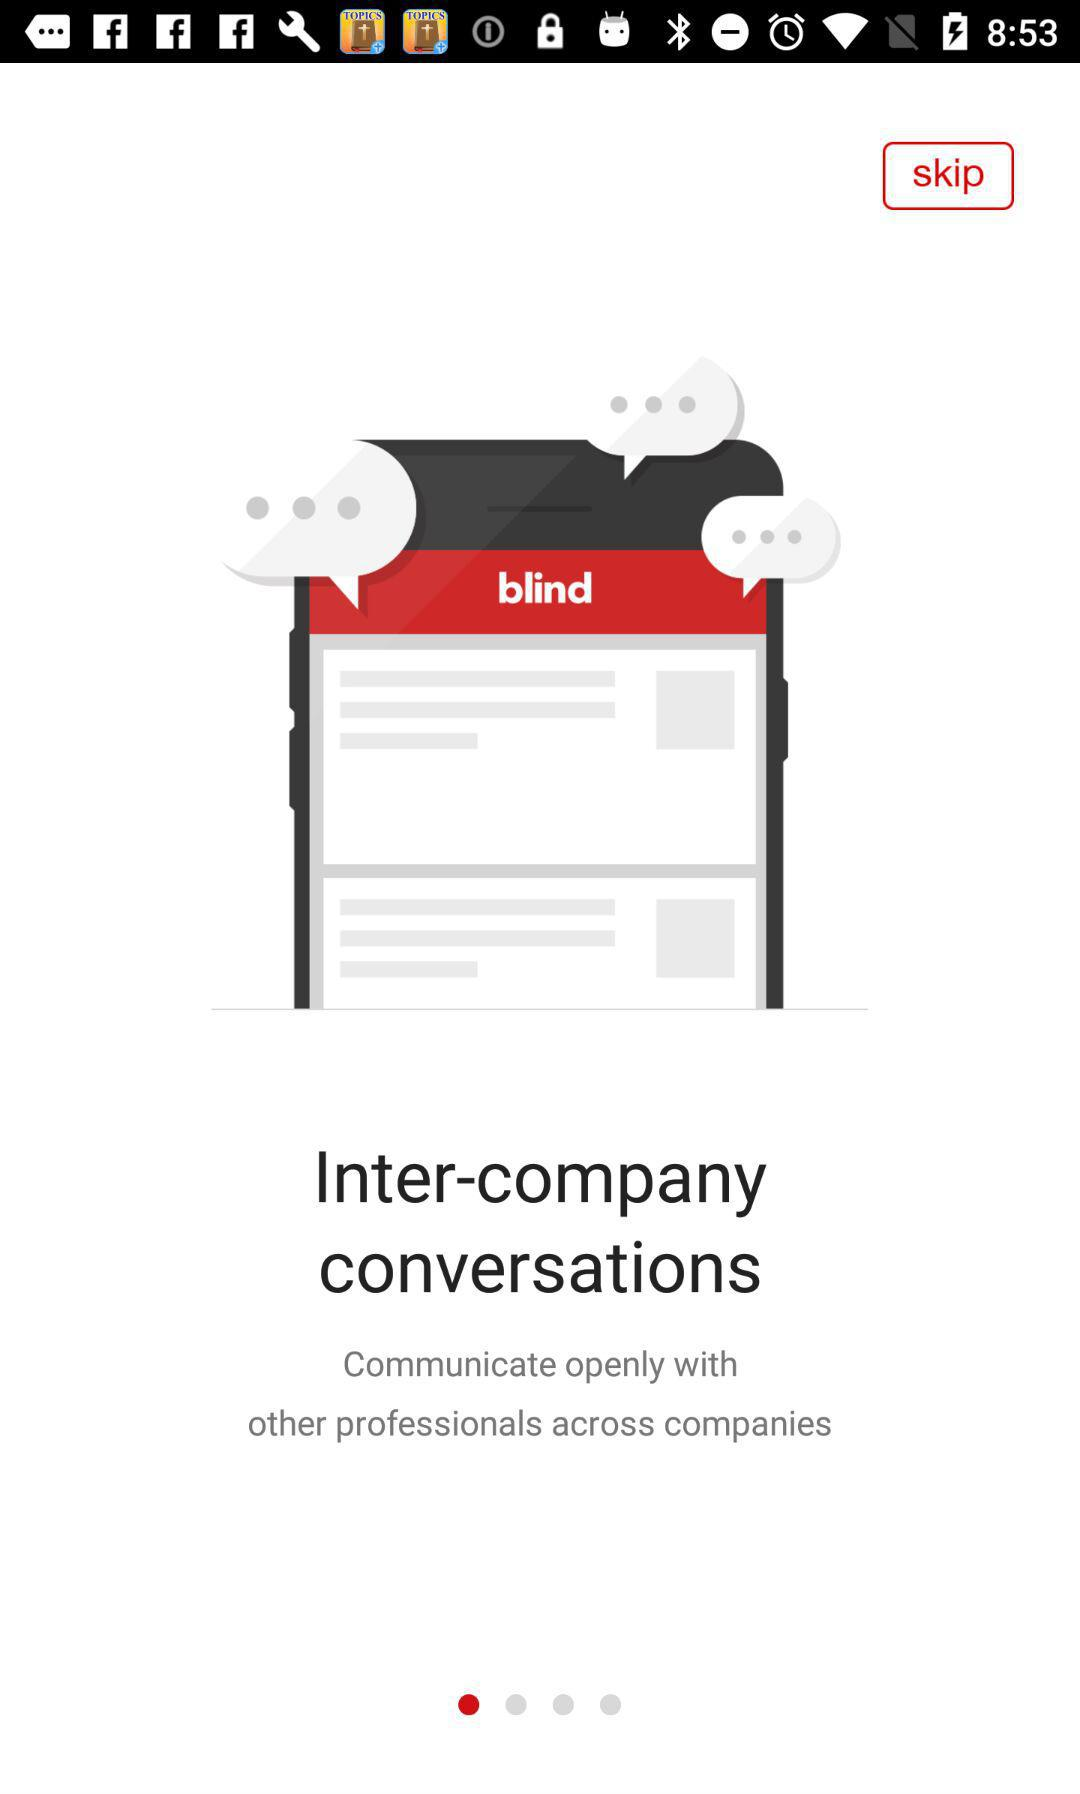Image: (217, 355, 842, 1010)
PageIndicator: (457, 1691, 623, 1717)
Text: (318, 1149, 767, 1296), (249, 1348, 831, 1445)
TextButton: (881, 141, 1015, 211)
UpperTaskBar: (1, 1, 1080, 64)
